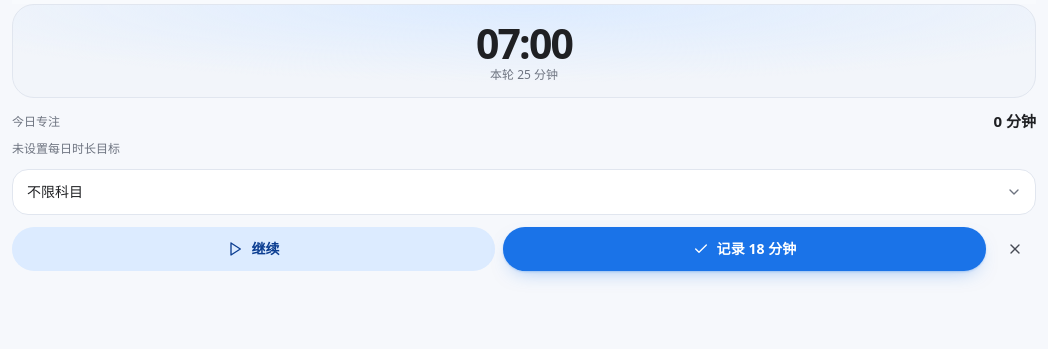
it: FocusTile 记录真实时长 › 放弃计时：一行不写，持久化状态清掉
Step 1. Click the button named "放弃" → (1015, 249), box [994,228,1036,270]
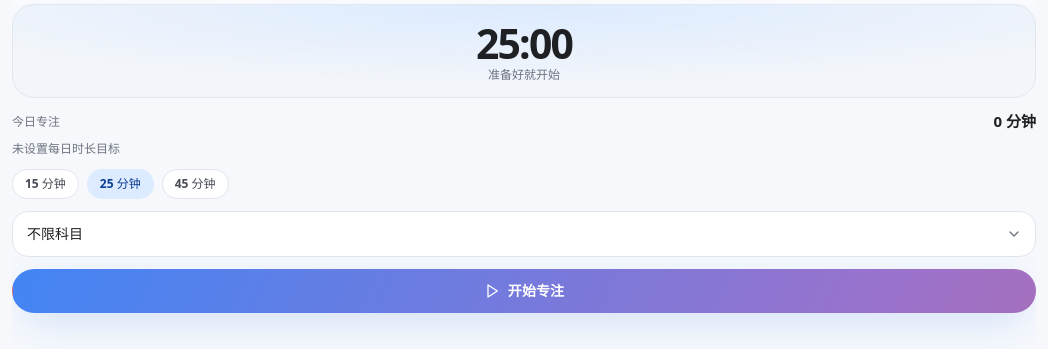
Check: the button "开始专注" is shown, box [12,269,1036,313]
